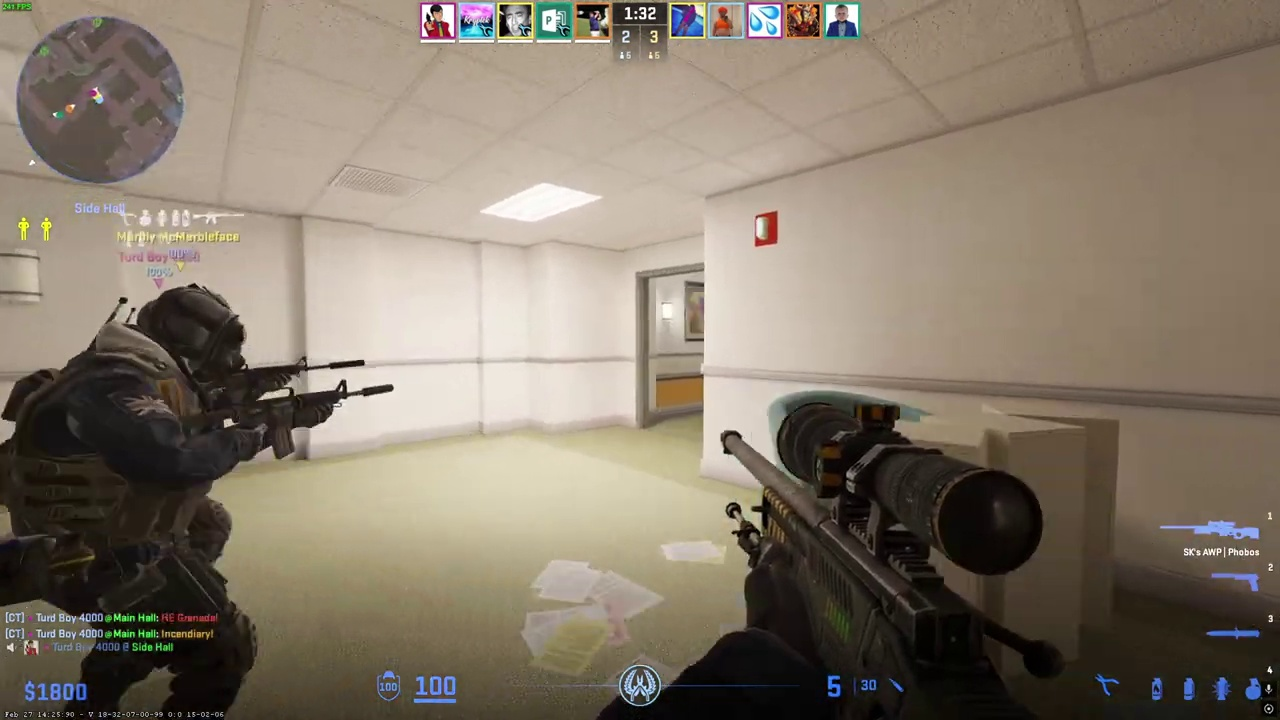CT: (0, 283, 283, 720)
